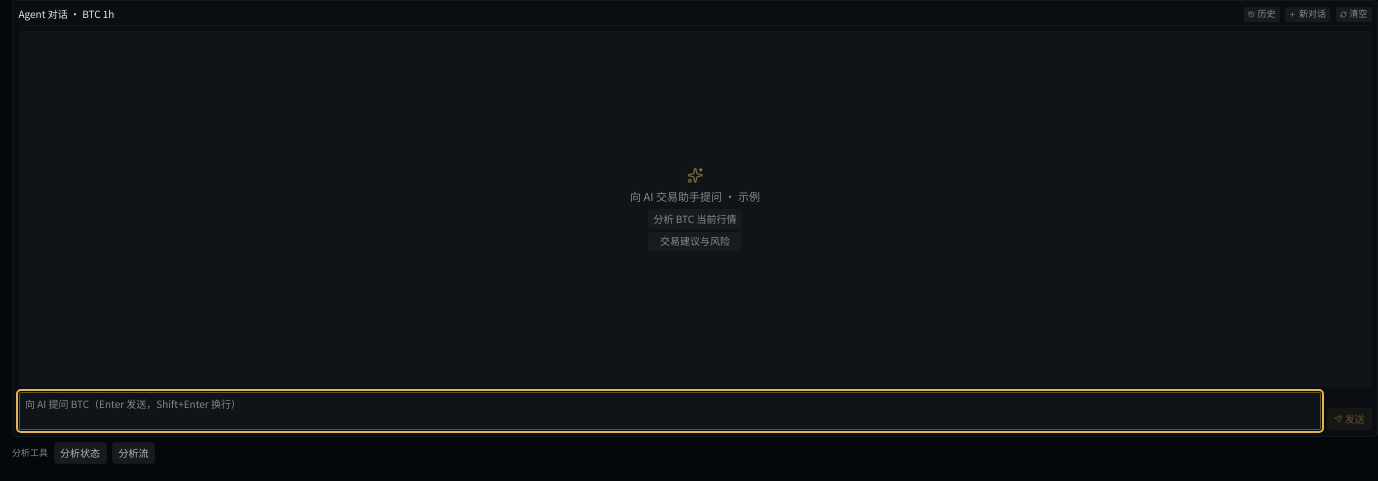
Test case: AgentChatPage — B0 确认门(page 面曾漏,须与 FAB 面同源) › 点『批准』→ 以 (sessionId, toolCallId, true) 调端点,ok 后卡片清除
Type "部署 bb_v3" into the text box with placeholder "向 AI 提问 BTC（Enter 发送，Shift+Enter 换行）". click: (670, 411)
box: x1=18 y1=392 x2=1321 y2=430
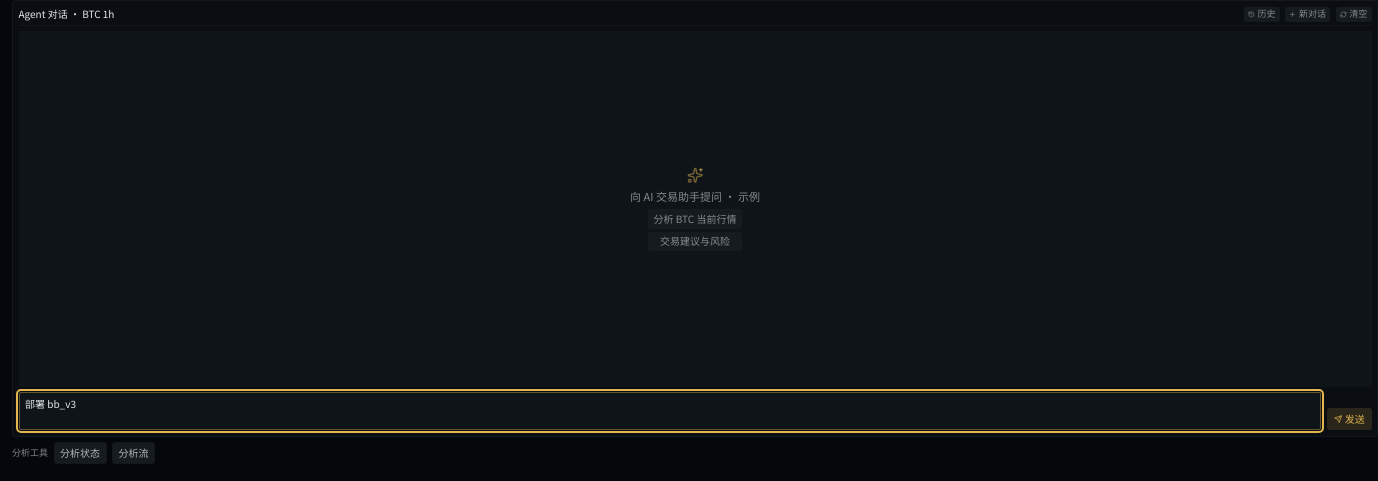
Click the button "发送". click: (1349, 419)
box: x1=1327 y1=408 x2=1372 y2=430
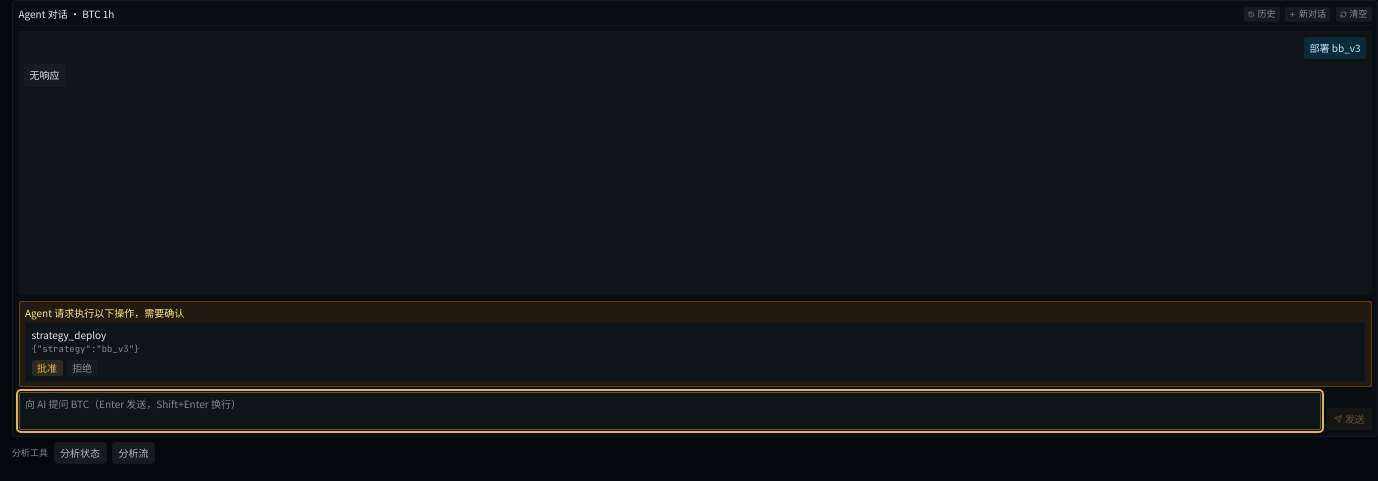
Click the button "批准". click: (47, 368)
box: x1=32 y1=360 x2=62 y2=376
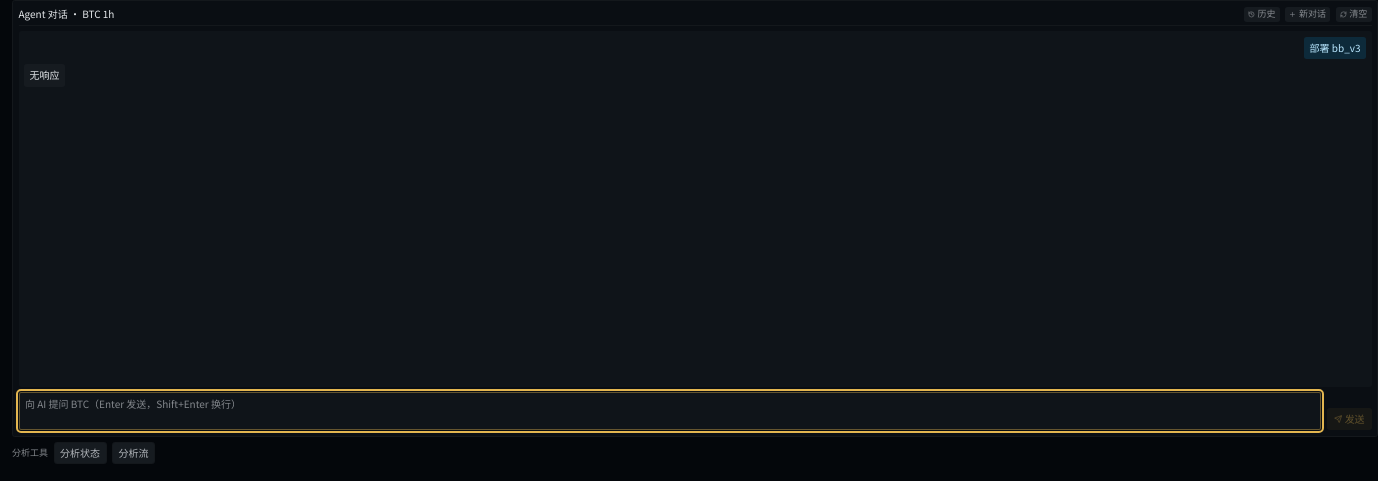
Check: the text "Agent 请求执行以下操作，需要确认" is gone
